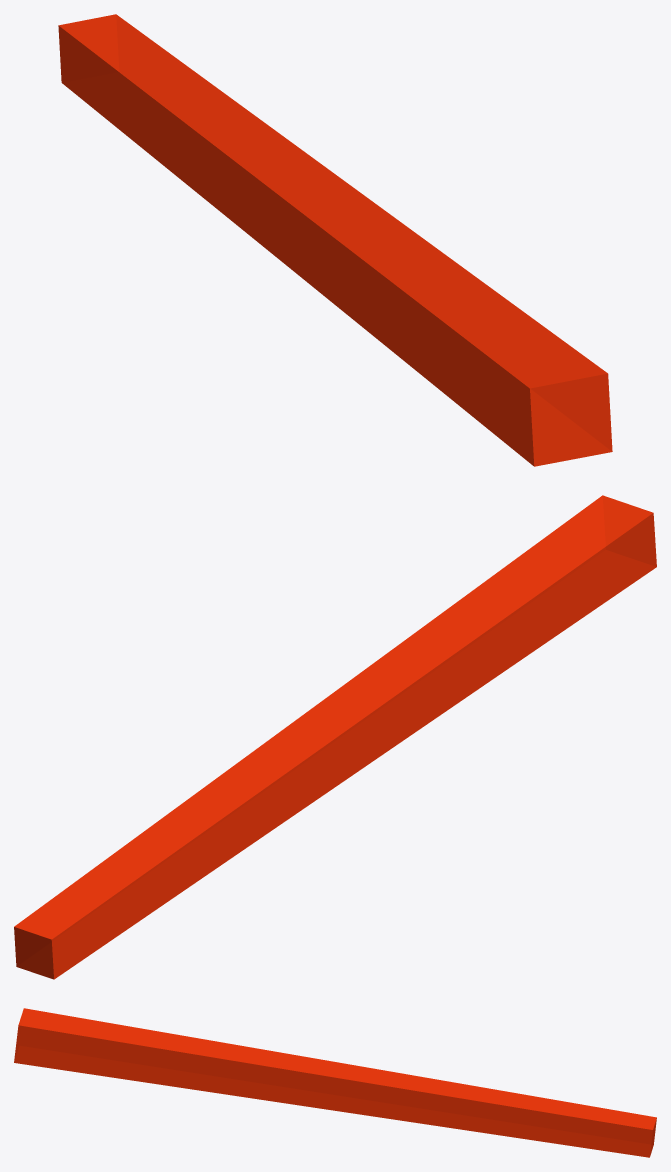
Rendered from Event_420604493_EBrechit_1.fbx.
3 renders of one model, top to bottom at view 1: azimuth 30°, elevation 25°; view 2: azimuth 150°, elevation 25°; view 3: azimuth 270°, elevation 25°, orthographic. The views are drawn at different scales.
Parts seen in each view (by area): view 1: Model; view 2: Model; view 3: Model.
Part boxes in pixels (<box>): Model: <box>58,14,612,466</box>; Model: <box>14,495,656,979</box>; Model: <box>14,1008,656,1157</box>.
Bounding box in the file's own units: 0.2249 × 0.1956 × 1.16.
